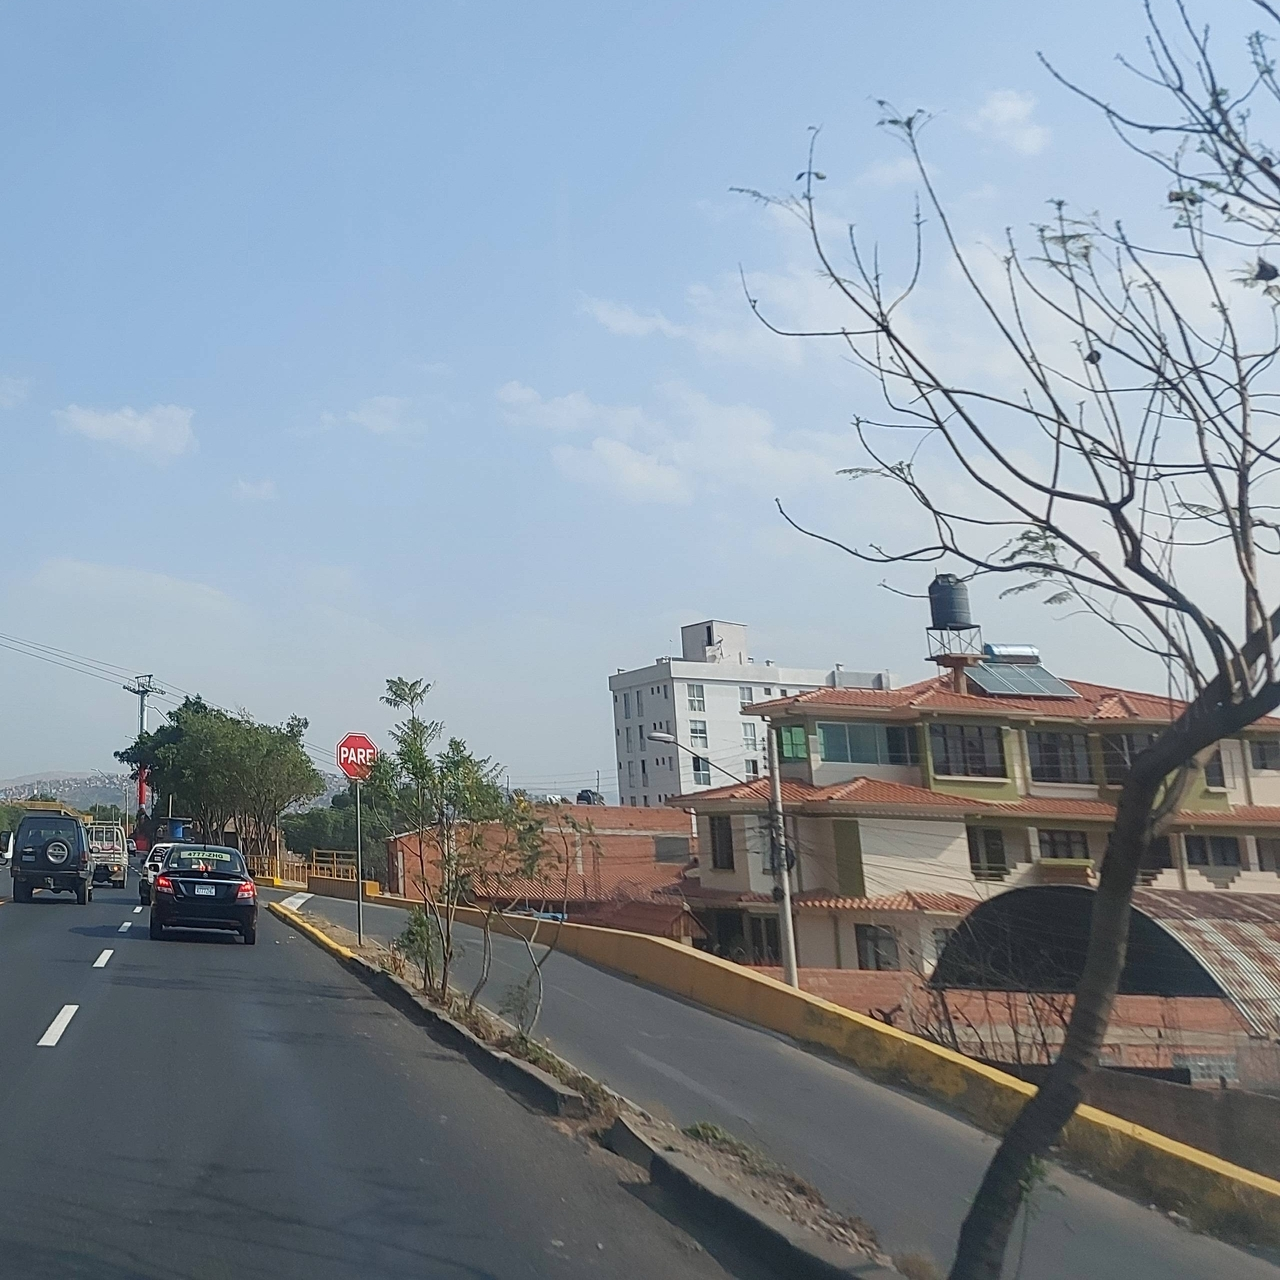pare: (336, 733, 376, 782)
